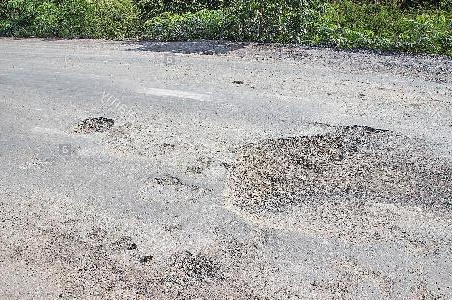pothole: (224, 122, 391, 226), (71, 113, 117, 137), (109, 235, 140, 251), (151, 173, 184, 186), (136, 253, 155, 264), (230, 77, 245, 86)
